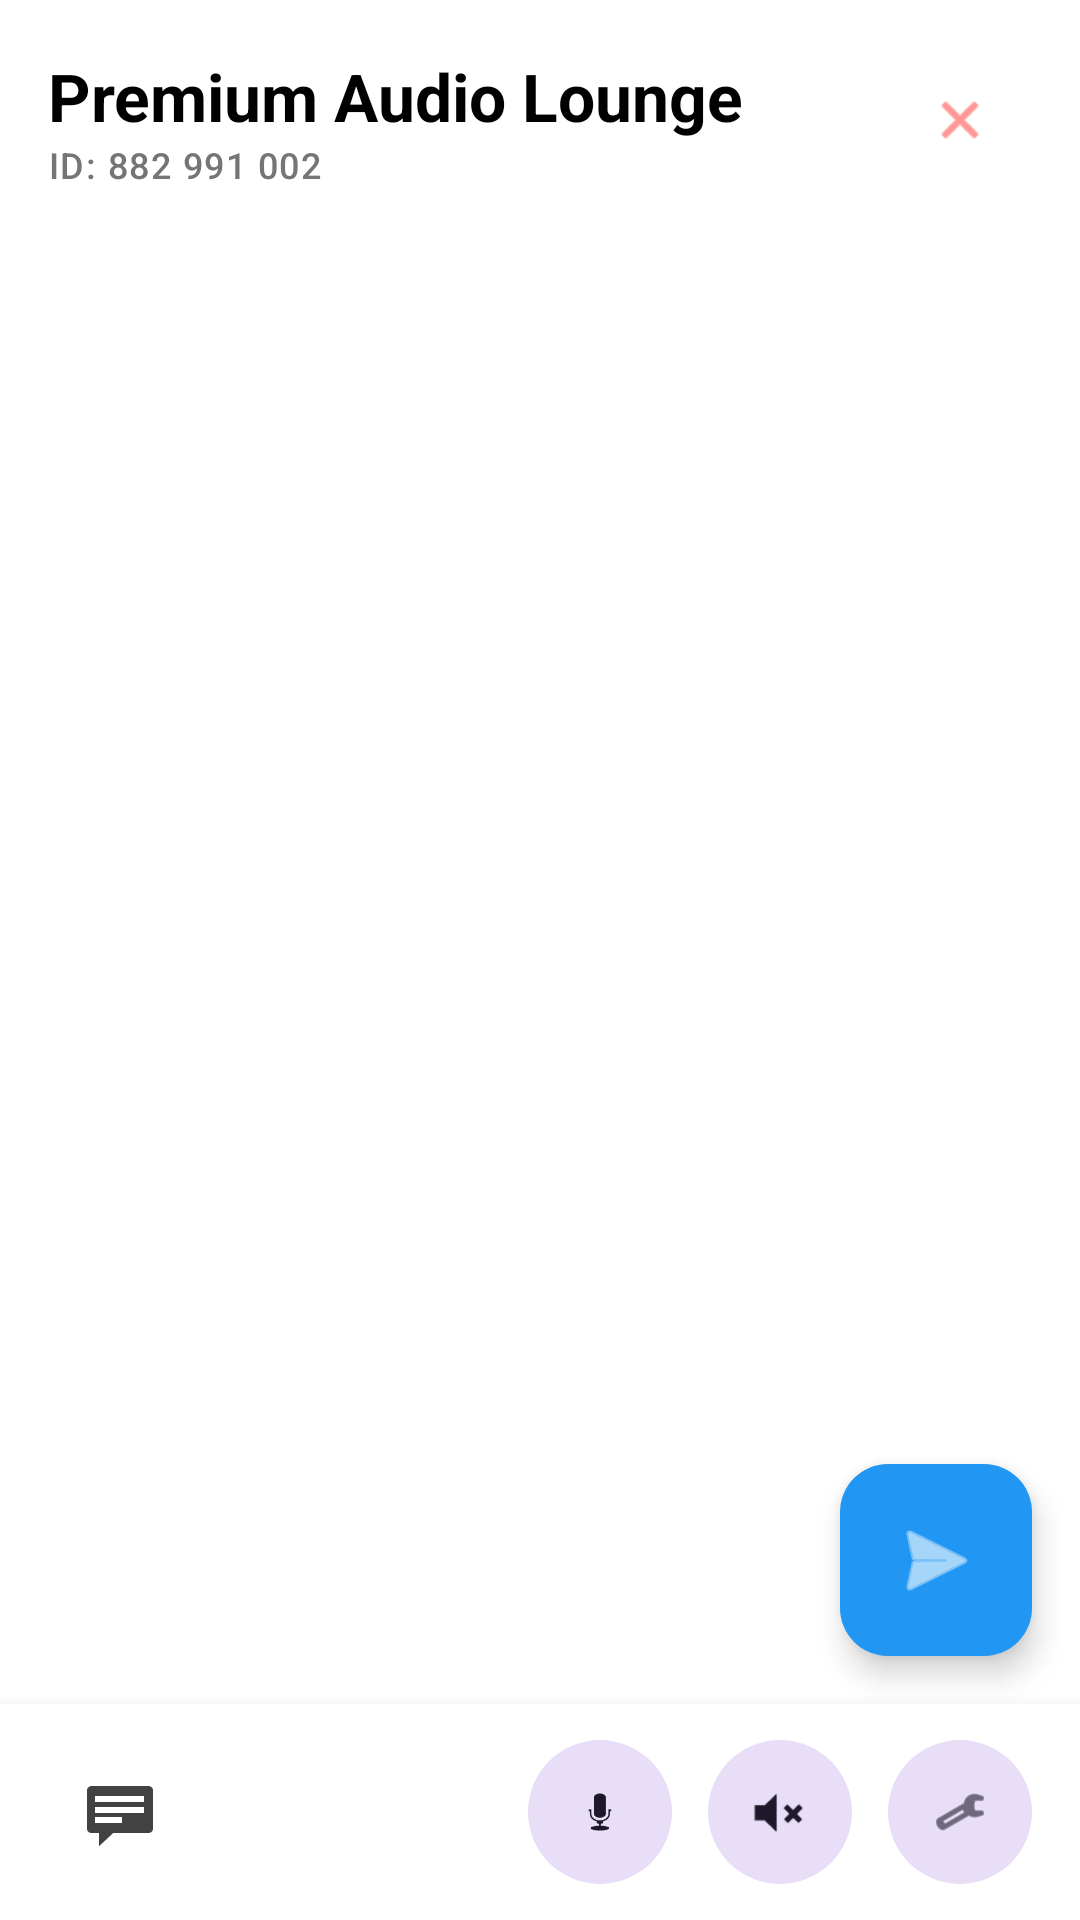

Named icons in this screenshot (1080px x 1920px) and their centers, (x=x, y=y):
Chat: (x=120, y=1816)
close clear cancel: (x=960, y=120)
lock silent mode: (x=780, y=1812)
manage: (x=960, y=1812)
speak now: (x=600, y=1812)
